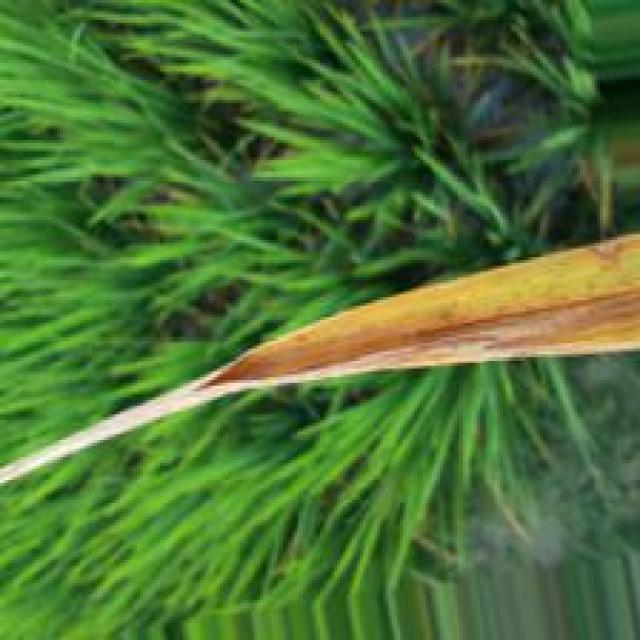Bacterial_Leaf_Blight: (22, 228, 640, 478)
